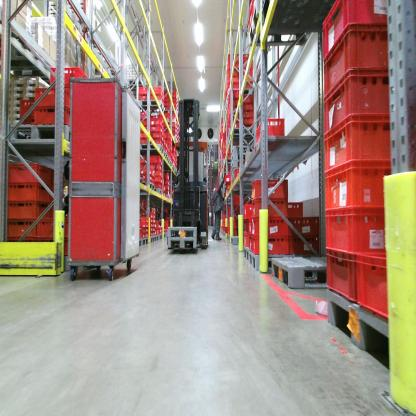pallet: (322, 281, 399, 375), (248, 1, 326, 47), (137, 100, 175, 170), (2, 12, 43, 67), (273, 252, 331, 288), (4, 122, 74, 149), (8, 59, 60, 83), (247, 247, 276, 271), (167, 225, 197, 240), (230, 124, 258, 140), (168, 238, 198, 252), (138, 141, 164, 155), (229, 143, 254, 157), (227, 87, 256, 97), (137, 180, 157, 193), (126, 78, 147, 89), (230, 153, 254, 162), (150, 188, 164, 198), (164, 109, 179, 117), (143, 236, 150, 248), (242, 247, 249, 259), (231, 237, 239, 246), (138, 238, 143, 250), (230, 159, 236, 169), (150, 235, 155, 245), (163, 152, 168, 160), (156, 233, 160, 242), (159, 234, 163, 242), (231, 168, 235, 176), (231, 176, 235, 184), (169, 158, 172, 168), (167, 156, 170, 164)
pallet_truck: (167, 94, 212, 256)
small_load_carrier: (323, 24, 394, 100), (324, 69, 391, 137), (322, 118, 399, 176), (321, 157, 395, 215), (321, 1, 391, 60), (322, 206, 393, 257), (7, 115, 51, 191), (357, 251, 396, 321), (325, 245, 355, 305), (6, 215, 49, 244), (6, 198, 49, 223), (251, 198, 289, 225), (255, 116, 288, 147), (7, 182, 51, 204), (249, 230, 288, 254), (251, 216, 289, 239), (287, 216, 323, 239), (34, 106, 70, 128), (35, 88, 69, 111), (252, 177, 289, 198), (50, 66, 86, 87), (288, 239, 323, 254), (282, 199, 304, 218), (19, 97, 37, 118), (246, 6, 256, 28), (242, 198, 251, 218), (49, 221, 59, 239), (63, 215, 72, 234), (227, 50, 240, 63), (240, 233, 250, 248), (230, 204, 245, 214), (233, 193, 245, 204), (241, 60, 254, 70), (150, 86, 162, 96), (149, 130, 162, 139), (149, 119, 162, 128), (149, 154, 162, 163), (150, 125, 161, 135), (138, 108, 149, 118), (151, 110, 161, 121), (242, 117, 253, 127), (140, 174, 152, 183), (228, 228, 240, 237), (150, 166, 161, 175), (227, 63, 241, 70), (227, 70, 241, 77), (150, 139, 162, 147), (150, 94, 162, 102), (242, 95, 254, 103), (242, 103, 255, 110), (242, 110, 255, 117), (240, 75, 253, 82), (140, 155, 149, 165), (150, 162, 161, 170), (231, 107, 239, 118), (241, 82, 253, 89), (140, 165, 151, 172), (146, 168, 155, 176), (230, 214, 239, 222), (139, 88, 149, 95), (228, 83, 238, 90), (240, 70, 254, 75), (227, 77, 238, 83), (248, 236, 253, 249), (141, 117, 149, 125), (139, 95, 148, 102), (140, 215, 149, 222), (231, 100, 240, 107), (247, 221, 252, 233), (140, 131, 149, 137), (140, 137, 149, 143), (155, 175, 161, 184), (155, 180, 161, 189), (141, 125, 149, 131), (232, 222, 240, 228), (139, 222, 145, 228), (164, 172, 169, 179), (145, 232, 150, 239), (151, 175, 155, 183), (156, 218, 159, 228), (164, 179, 169, 184), (149, 213, 153, 219), (145, 222, 149, 228), (141, 228, 145, 234), (145, 227, 148, 234), (164, 184, 168, 189), (150, 223, 154, 228), (165, 189, 168, 194), (151, 218, 154, 223), (156, 228, 159, 233), (150, 228, 153, 232), (151, 231, 153, 236)
